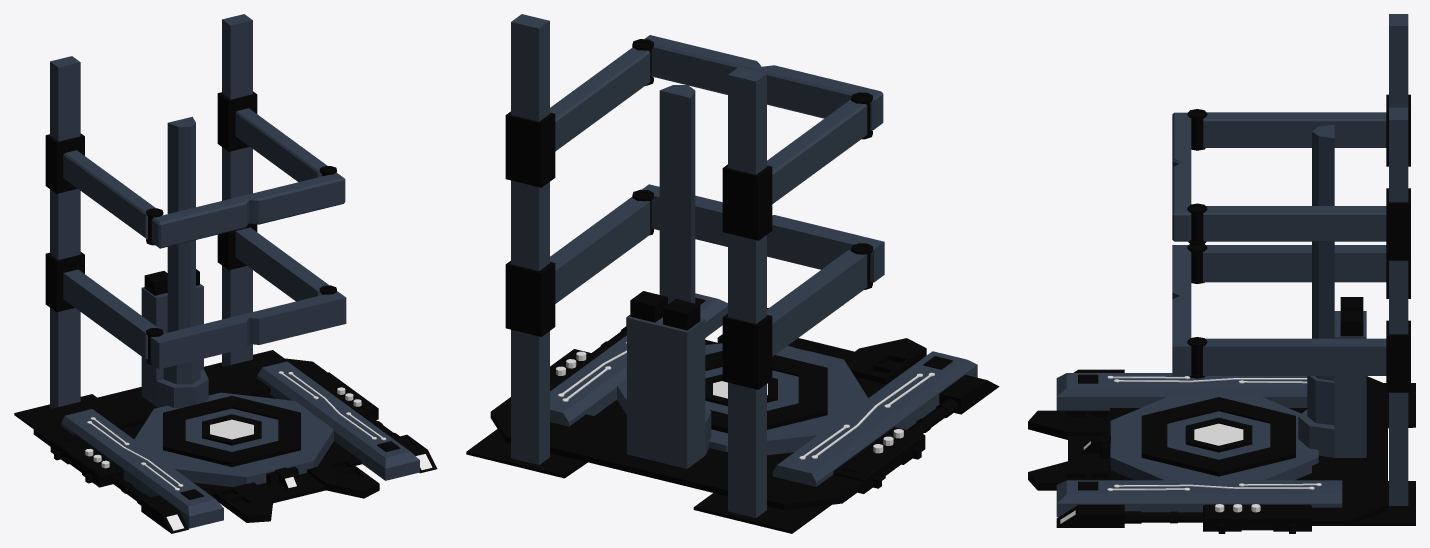
Rendered from MegatronDock.fbx.
3 views of the same model, side by side, from view 1: azimuth 30°, elevation 25°; view 2: azimuth 150°, elevation 25°; view 3: azimuth 270°, elevation 25° (orthographic). The views are drawn at different scales.
Visible parts, largest first — view 1: polySurface282; view 2: polySurface282; view 3: polySurface282.
Boxes of the visible parts, x1=… form: polySurface282: x1=14, y1=14, x2=437, y2=533; polySurface282: x1=466, y1=14, x2=999, y2=533; polySurface282: x1=1028, y1=14, x2=1415, y2=533.
Size of the model in its own units: 2310 by 2689 by 2416.
